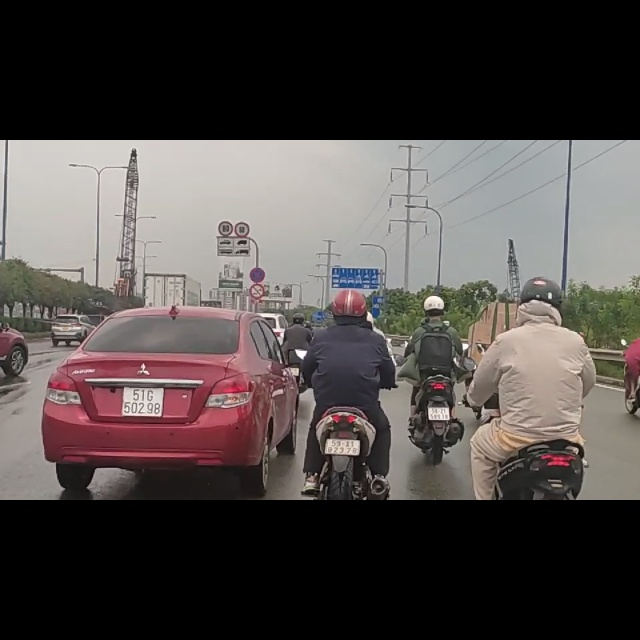bien_cam: (249, 226, 265, 253)
